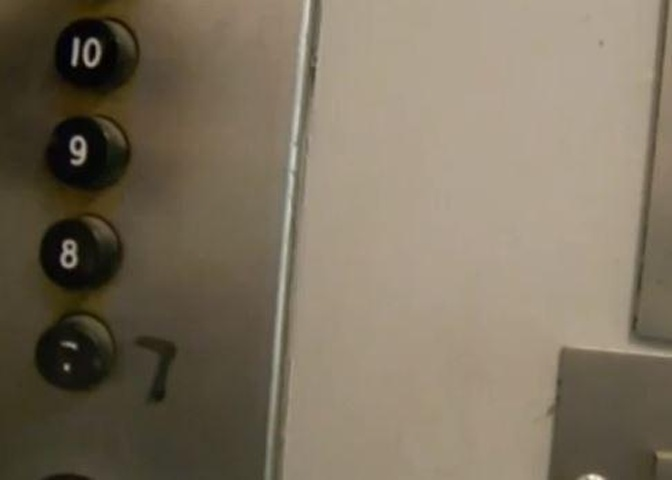10: (51, 15, 141, 94)
8: (39, 211, 123, 293)
9: (42, 110, 134, 193)
blur: (33, 312, 119, 392)
